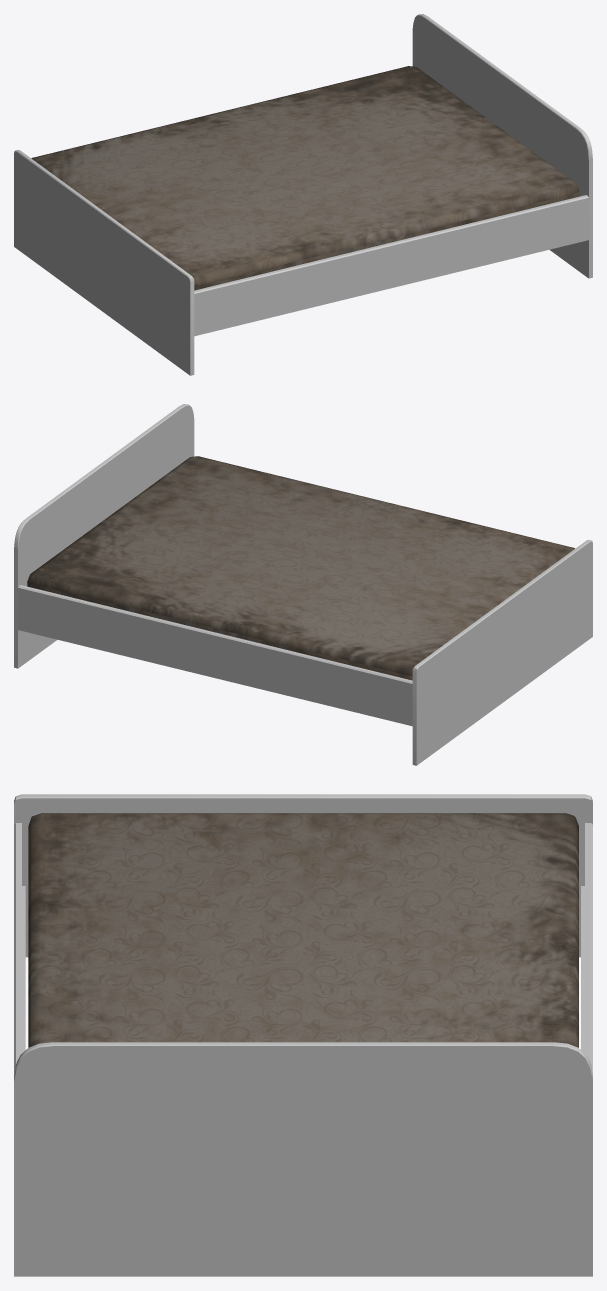
The model's file is DoubleBed.FBX.
3 views of the same model, one above another, from view 1: azimuth 30°, elevation 25°; view 2: azimuth 150°, elevation 25°; view 3: azimuth 270°, elevation 25° (orthographic). The views are drawn at different scales.
Parts seen in each view (by area): view 1: DoubleMattress, DoubleBed; view 2: DoubleMattress, DoubleBed; view 3: DoubleBed, DoubleMattress.
Boxes of the visible parts, x1,y1,x2,y2 form: DoubleMattress: (31,66,579,290); DoubleBed: (14,14,592,375); DoubleMattress: (27,456,574,680); DoubleBed: (14,404,592,765); DoubleBed: (14,794,592,1276); DoubleMattress: (28,813,578,1047).
Bounding box in the file's own units: 194 × 147 × 65.
